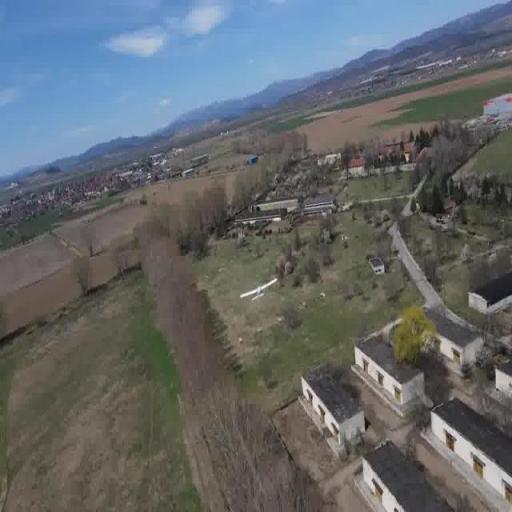uav: (236, 276, 278, 314)
